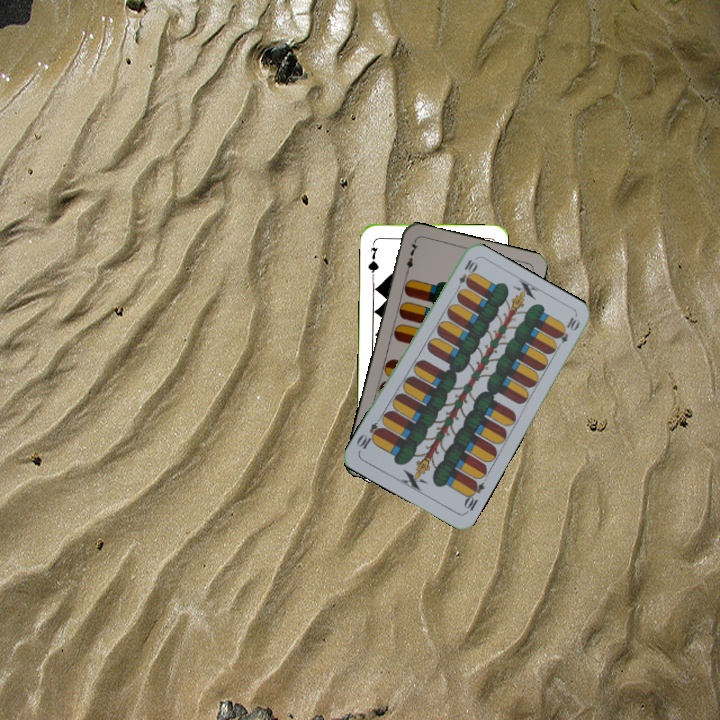E10: (459, 476, 487, 516), (452, 255, 478, 294)
E7: (402, 237, 421, 277)
G7: (364, 237, 381, 278)
